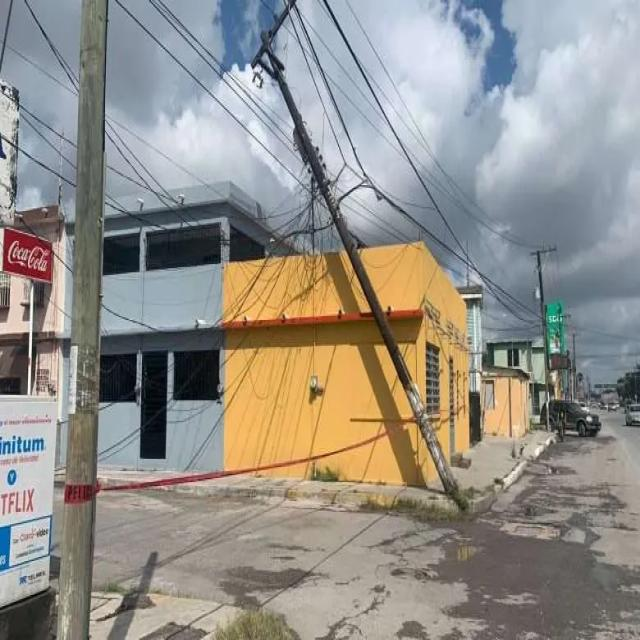Inclined Pole: (245, 0, 472, 509)
